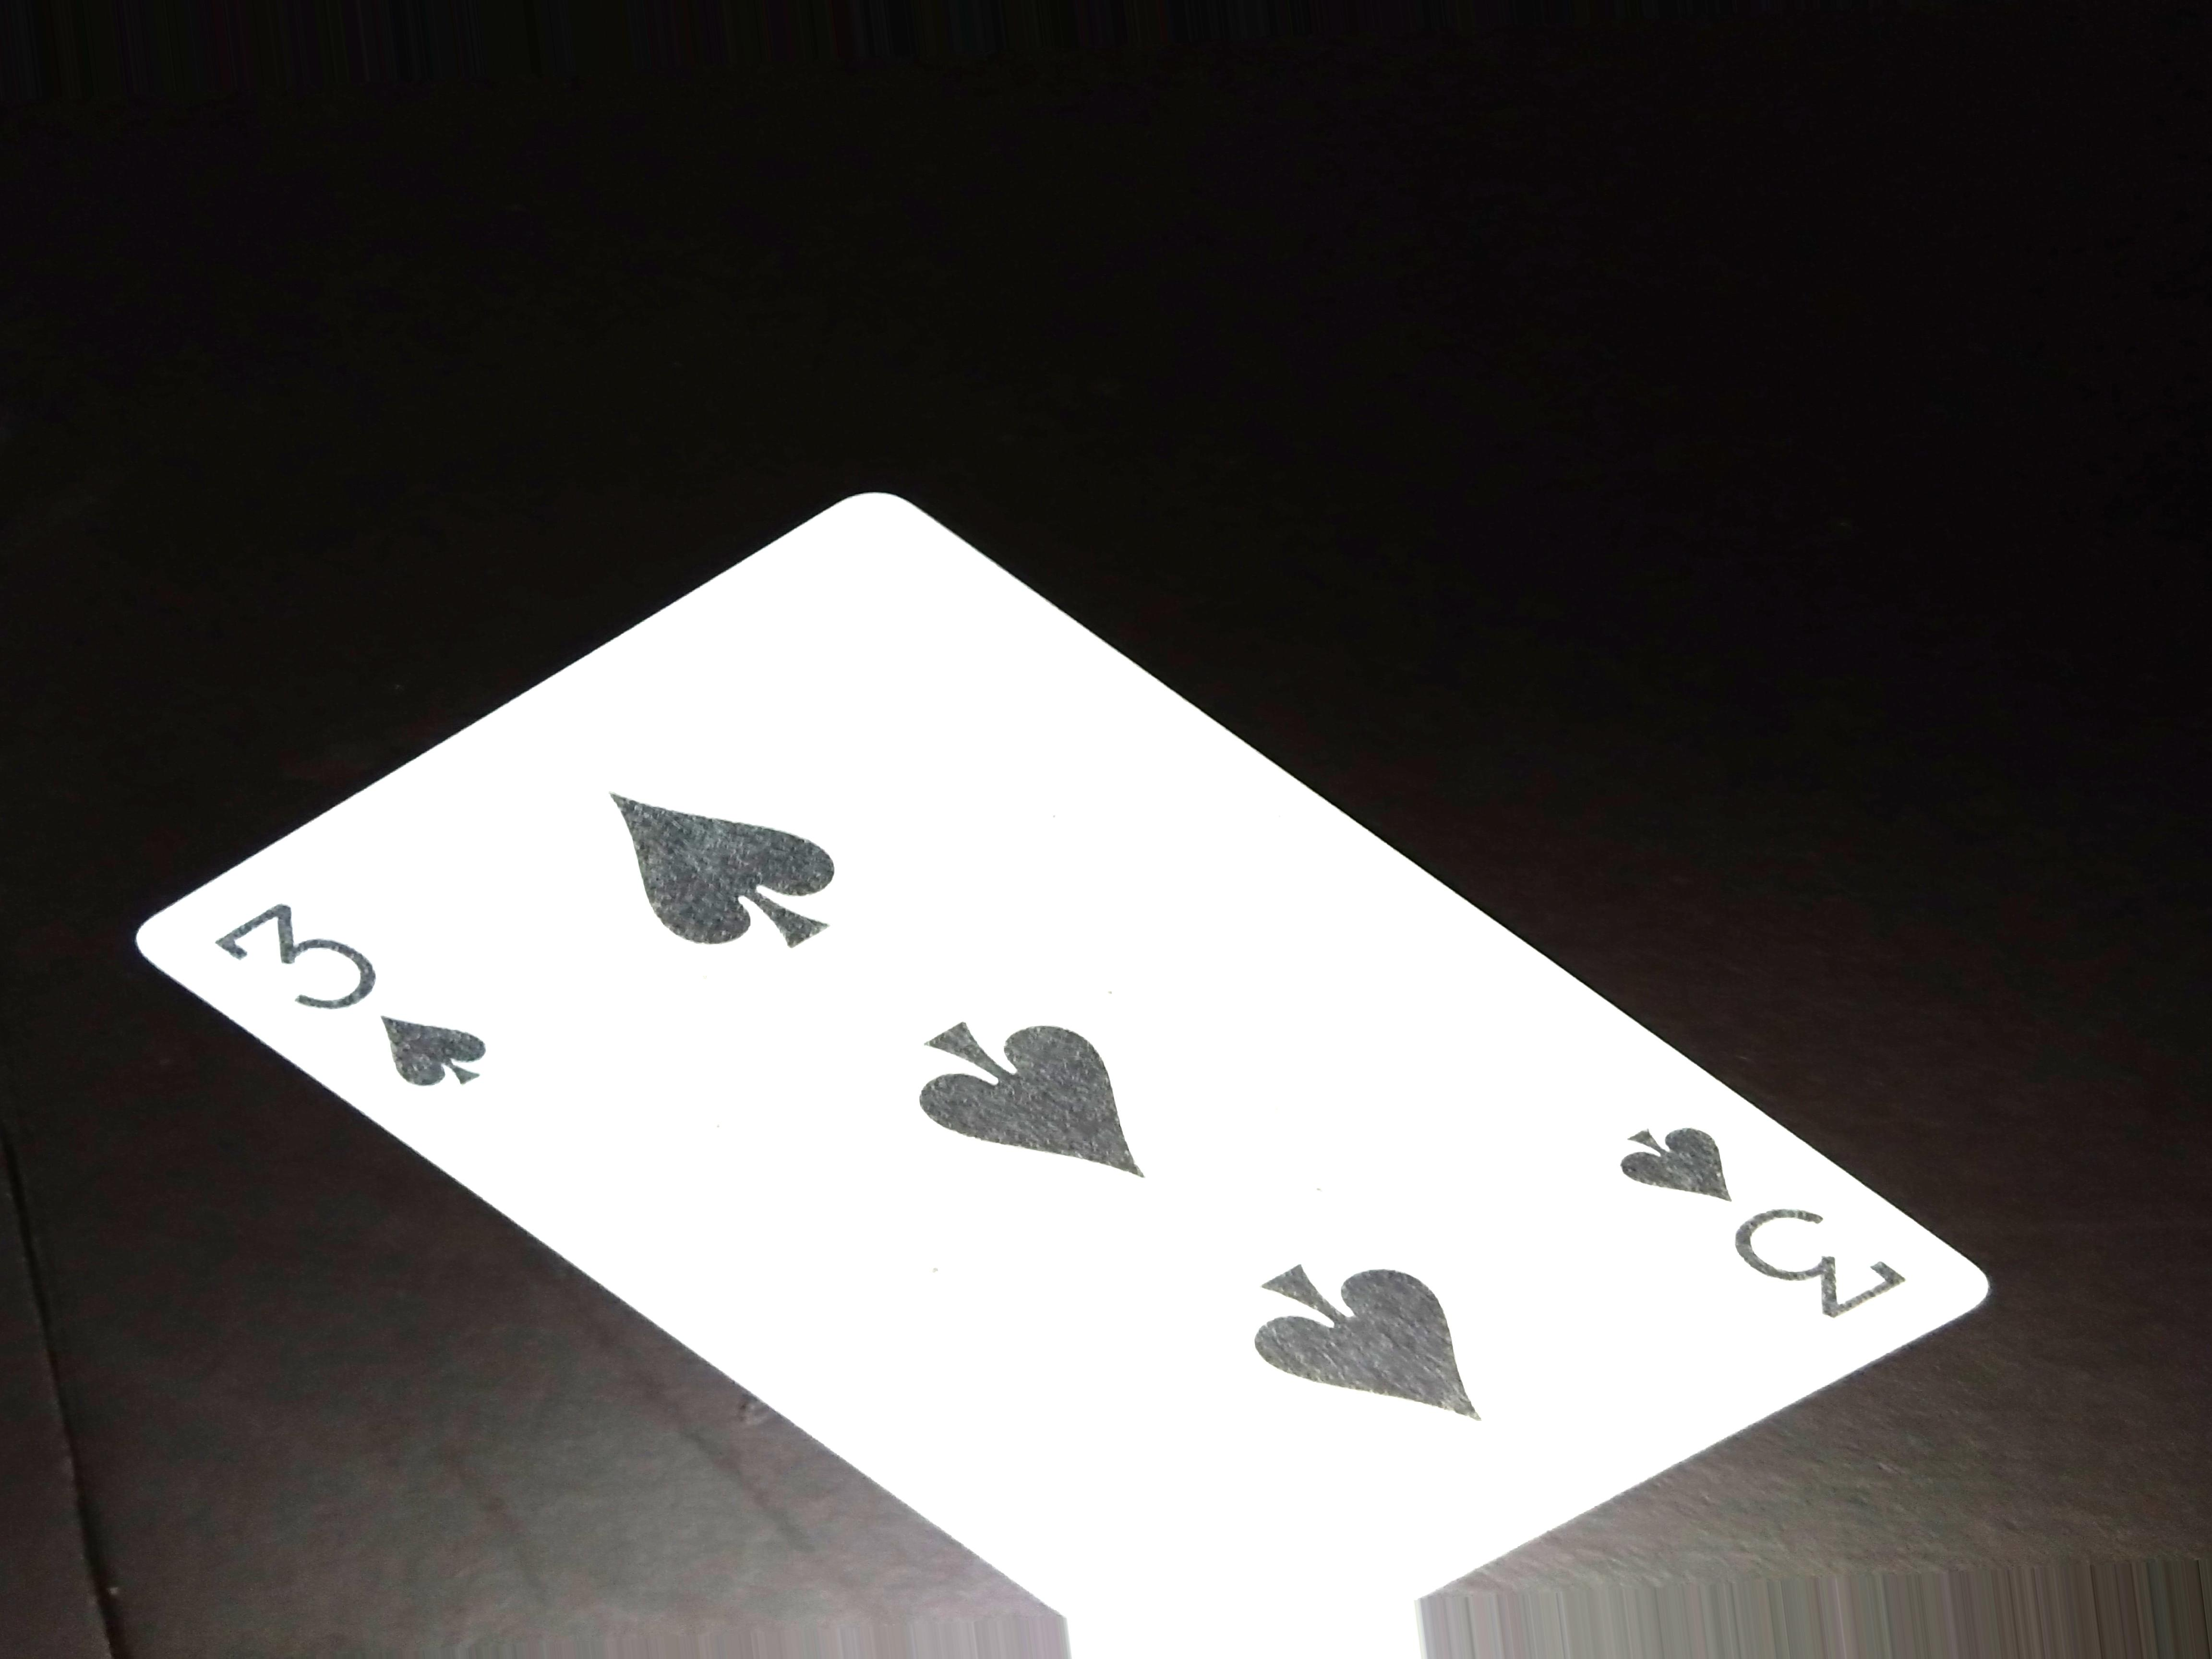3S: (206, 892, 507, 1110)
